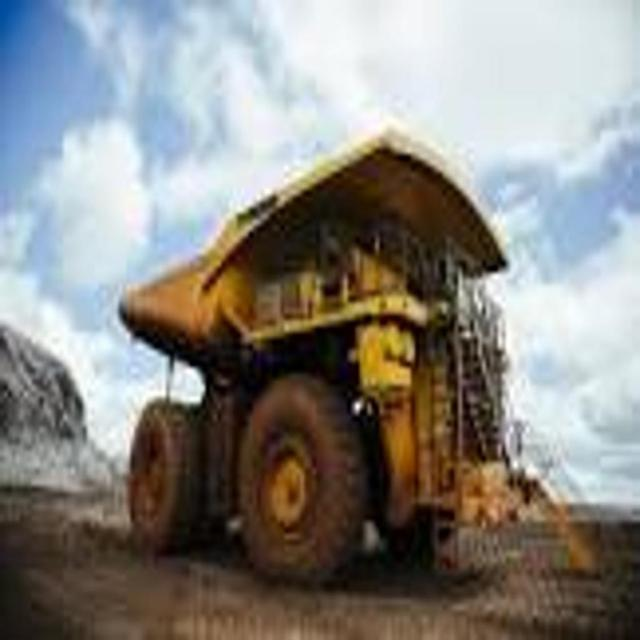dump_truck: (117, 109, 549, 616)
